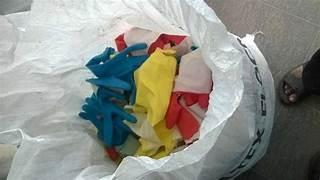Glove: (166, 49, 211, 139), (86, 43, 147, 102), (133, 48, 176, 126), (79, 94, 135, 146), (115, 27, 191, 55), (86, 43, 148, 77), (174, 49, 211, 93), (166, 92, 199, 139), (136, 121, 177, 158), (148, 34, 185, 53), (123, 27, 159, 46), (116, 135, 139, 155)
